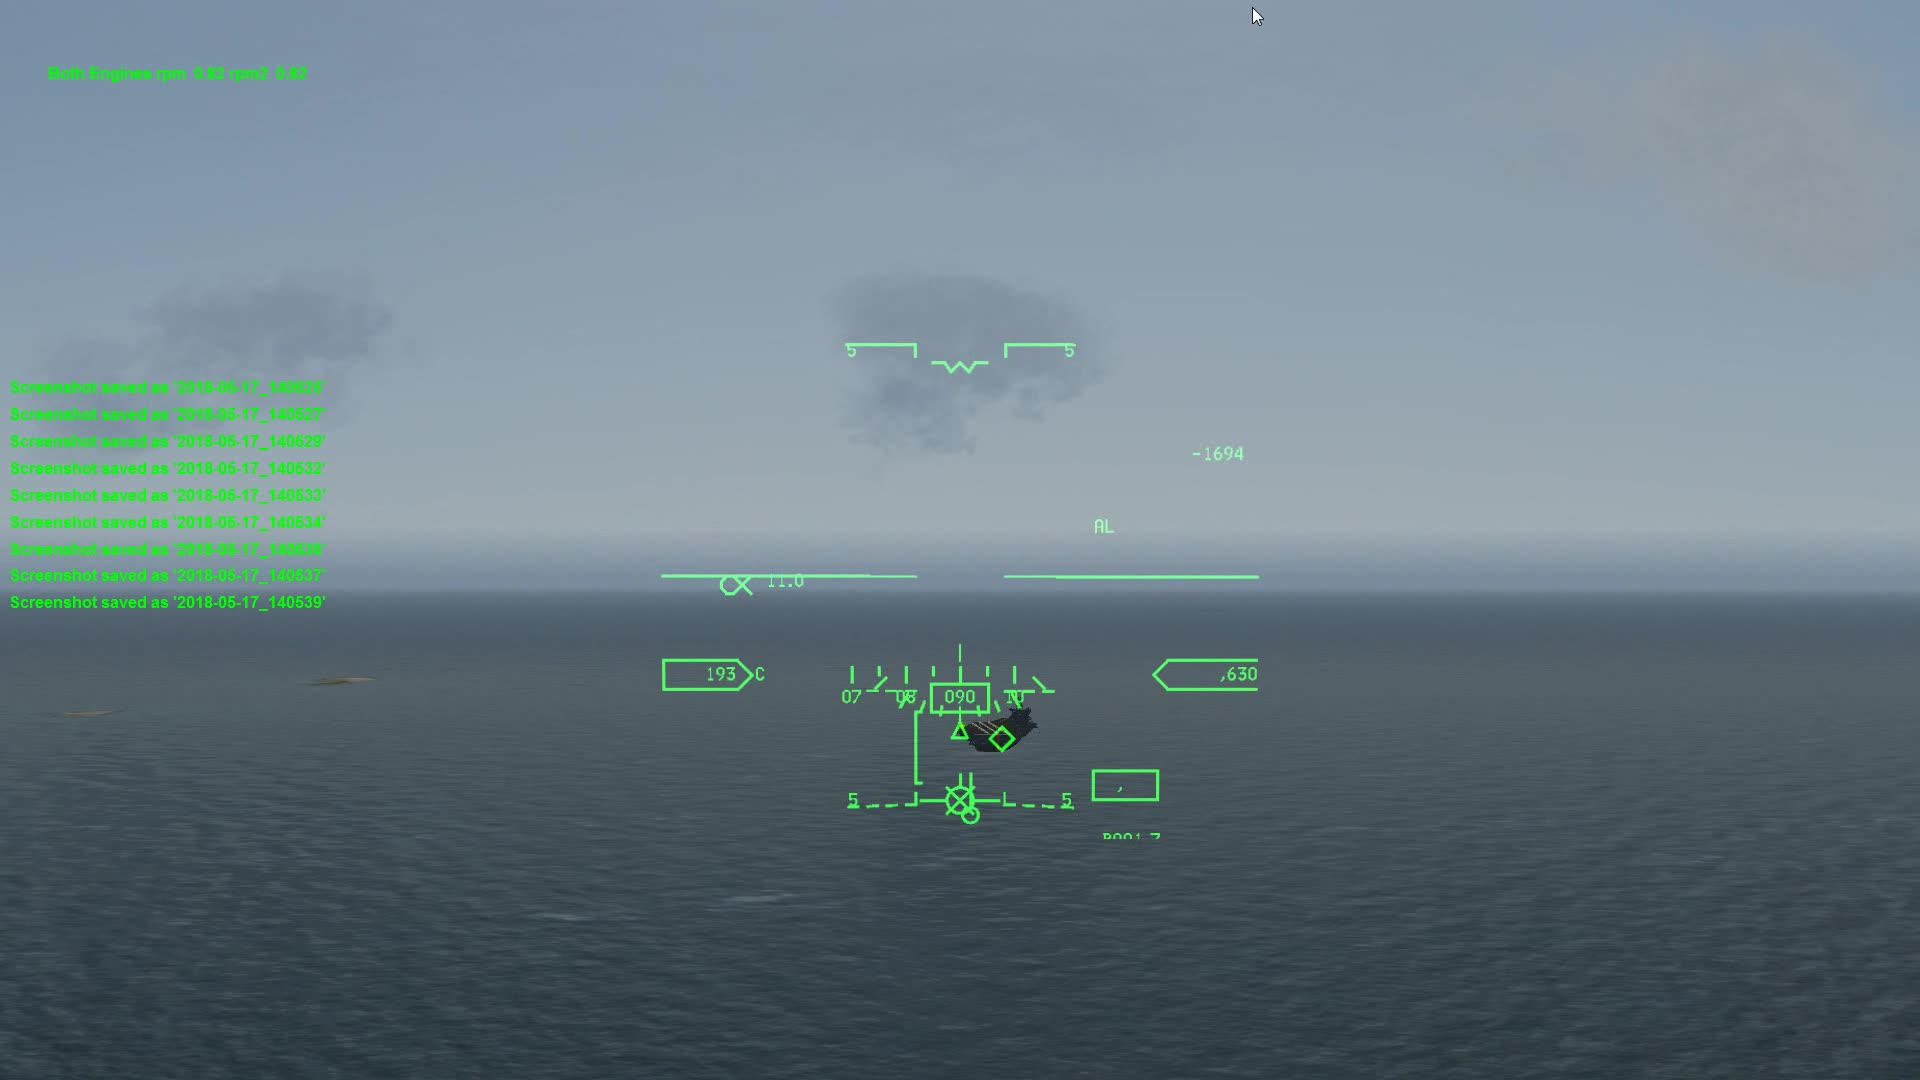speed vector: (928, 764, 1000, 816)
